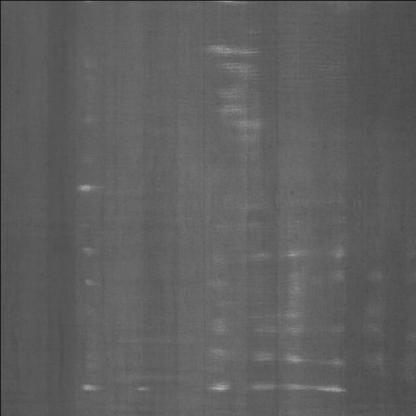waist_folding: (72, 104, 376, 385)
